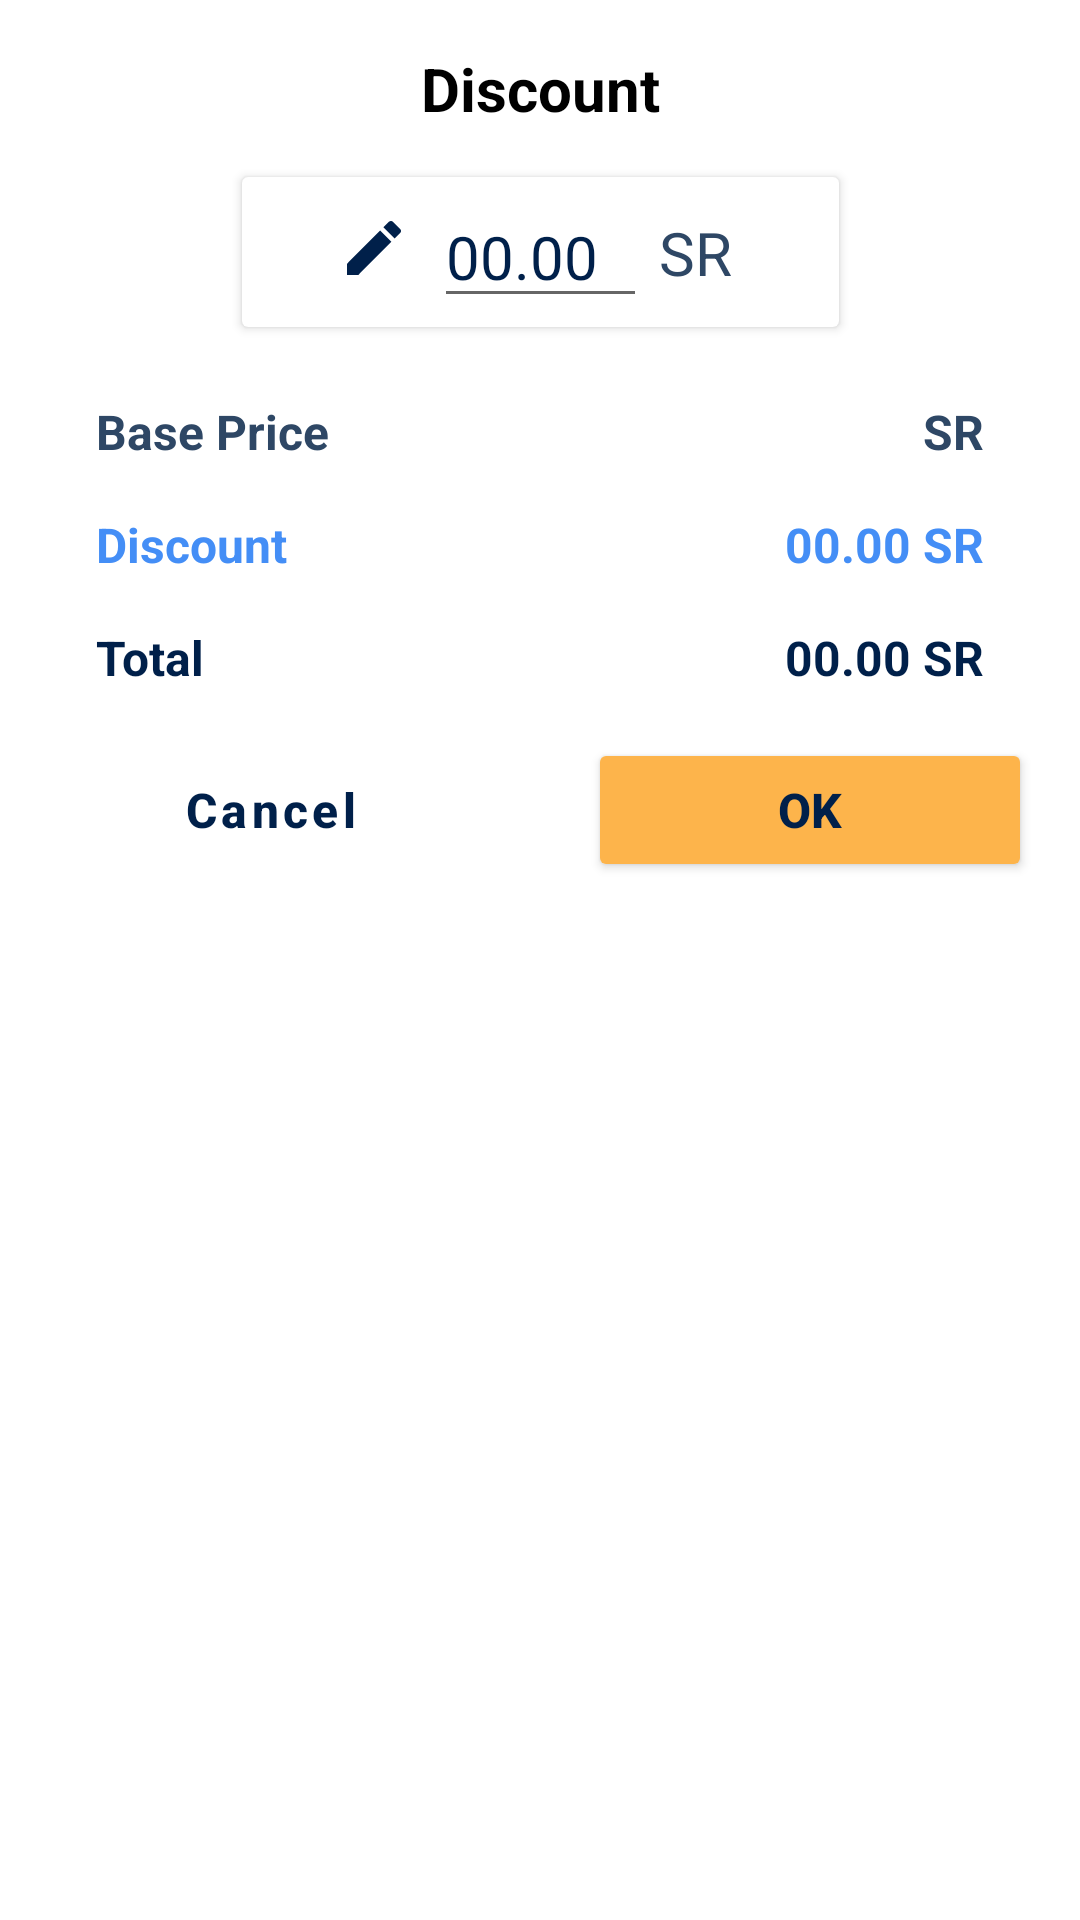

Where icons sit on this 1080×1920 app screen, as bbox=(x1, y1, x2, y2):
edit: bbox=(347, 221, 401, 275)
